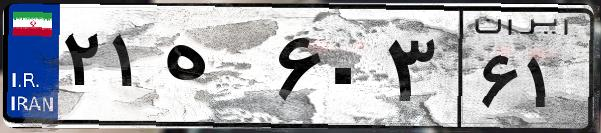0: (330, 28, 385, 110)
1: (525, 38, 570, 115), (110, 28, 158, 98)
2: (57, 26, 110, 100)
3: (385, 28, 445, 110)
6: (270, 28, 330, 110), (475, 38, 525, 113)
ه: (158, 20, 270, 120)
